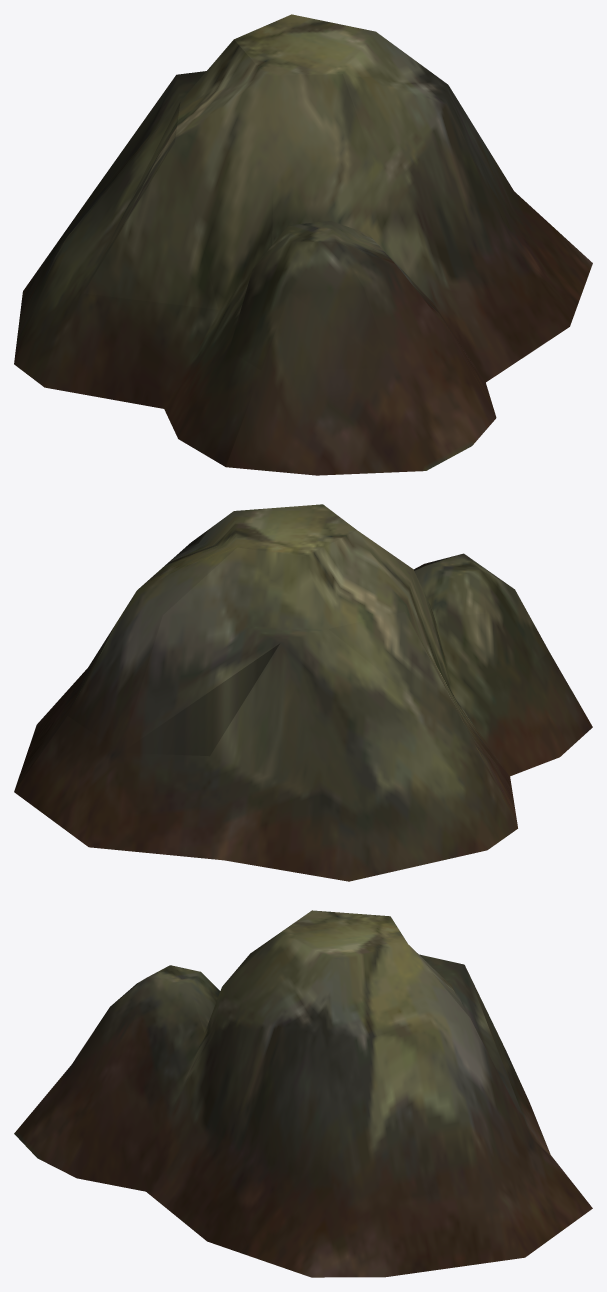
Rendered from fxmg_shitou1.FBX.
3 renders of one model, top to bottom at view 1: azimuth 30°, elevation 25°; view 2: azimuth 150°, elevation 25°; view 3: azimuth 270°, elevation 25°, orthographic. The views are drawn at different scales.
Parts seen in each view (by area): view 1: KLMSM_shitou1; view 2: KLMSM_shitou1; view 3: KLMSM_shitou1.
Boxes of the visible parts, left/top/right/bottom form: KLMSM_shitou1: left=14, top=14, right=592, bottom=475; KLMSM_shitou1: left=14, top=504, right=592, bottom=881; KLMSM_shitou1: left=14, top=910, right=592, bottom=1277.
Bounding box in the file's own units: 165 × 84.02 × 182.
